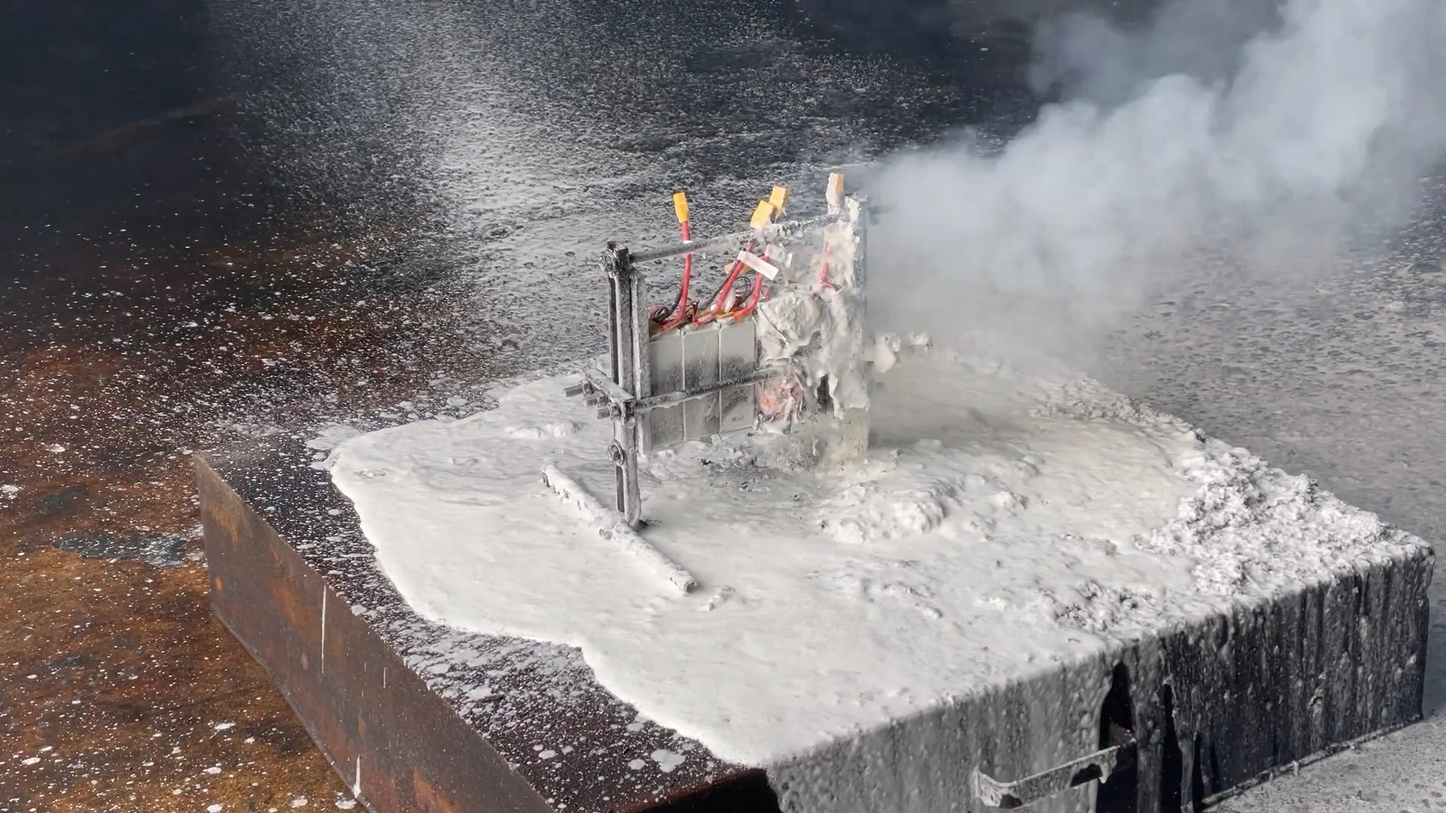smoke: (846, 0, 1446, 376)
